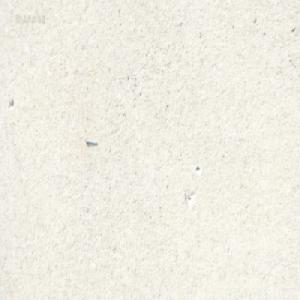Nail: (84, 136, 97, 145)
